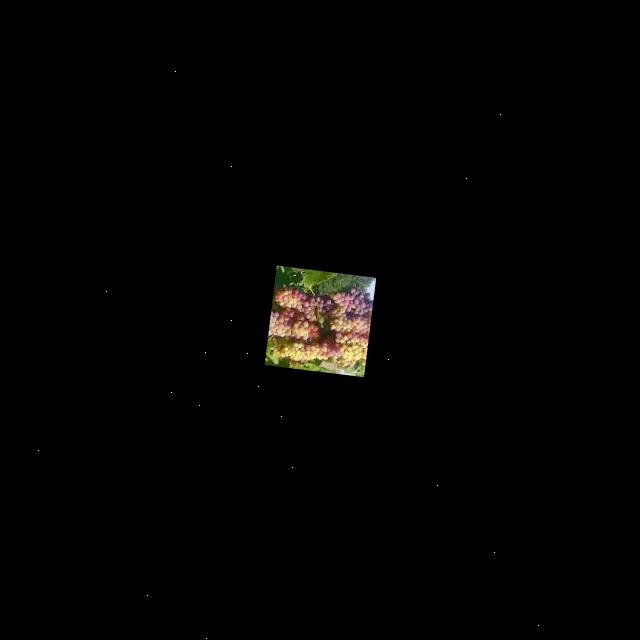grape: (266, 274, 374, 372)
